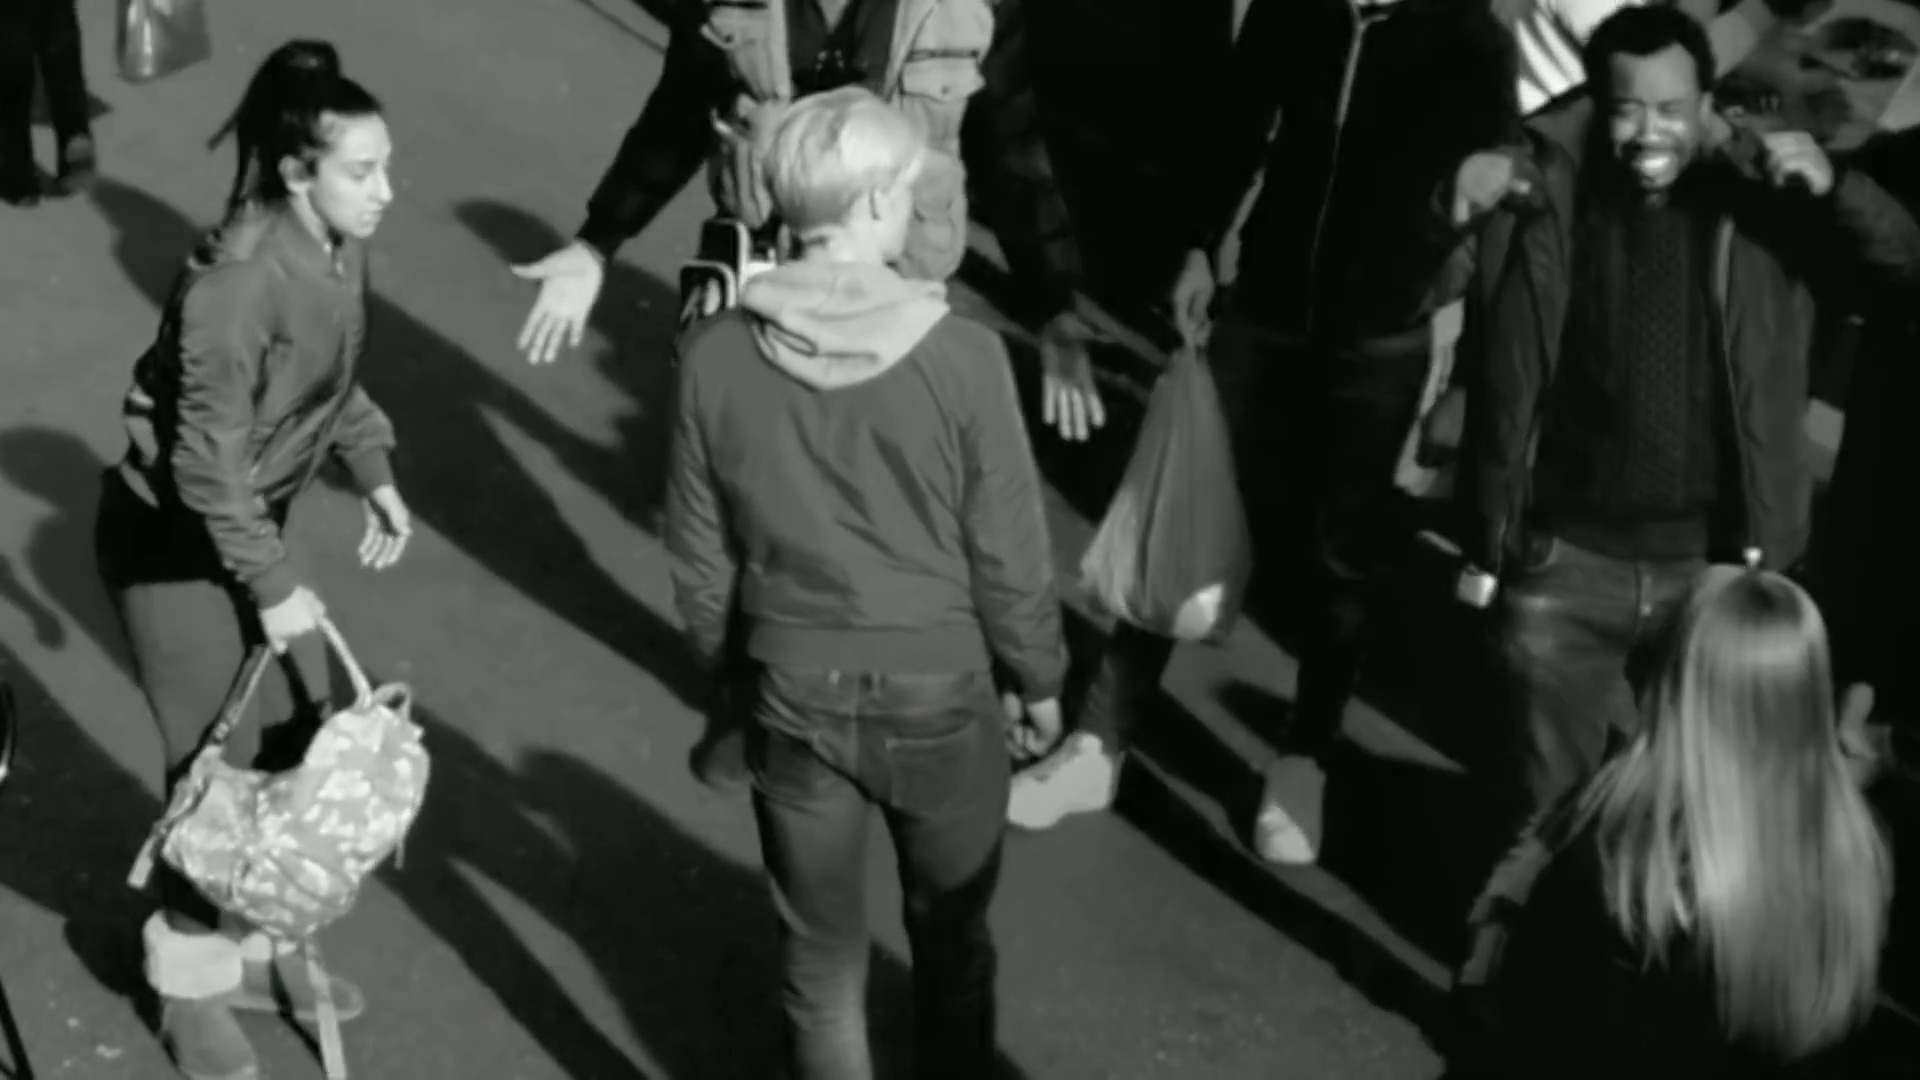face: (1599, 65, 1716, 197), (299, 125, 396, 245)
